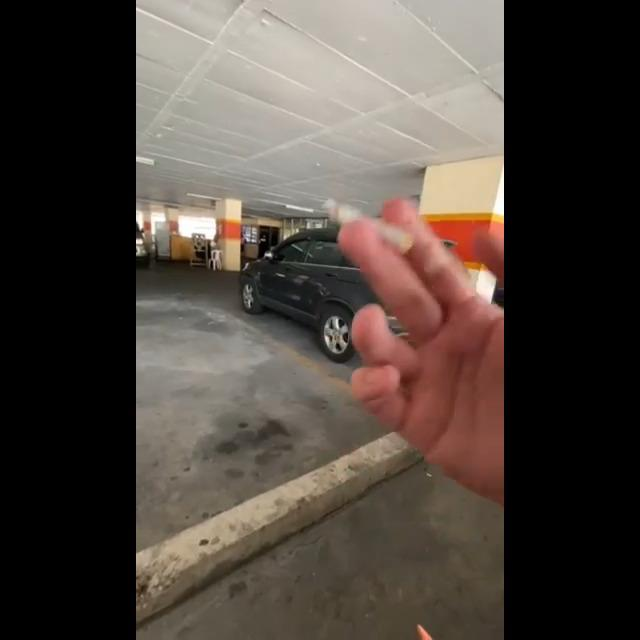rokok: (328, 200, 418, 262)
